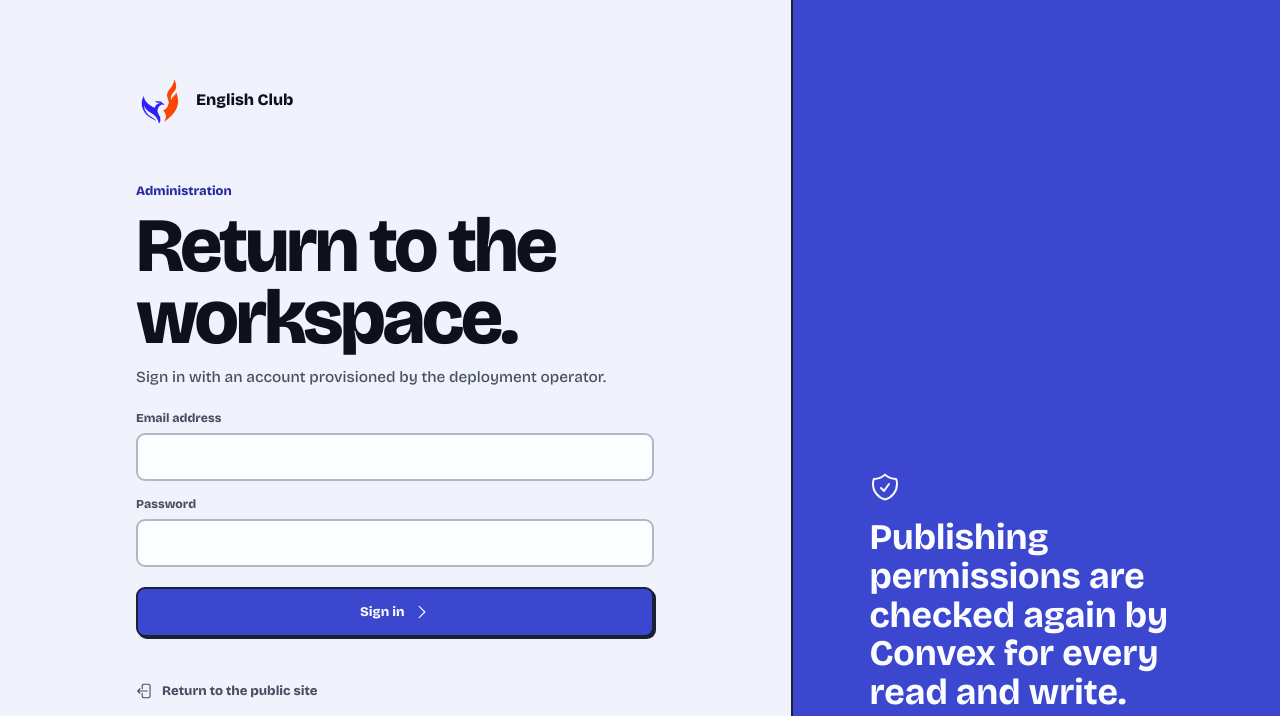
Test: AdminSignIn › turns a missing password account into a non-enumerating sign-in error
Type "owner@example.com" into the field labelled "Email address" at coordinates (395, 457), box [136,433,654,481]
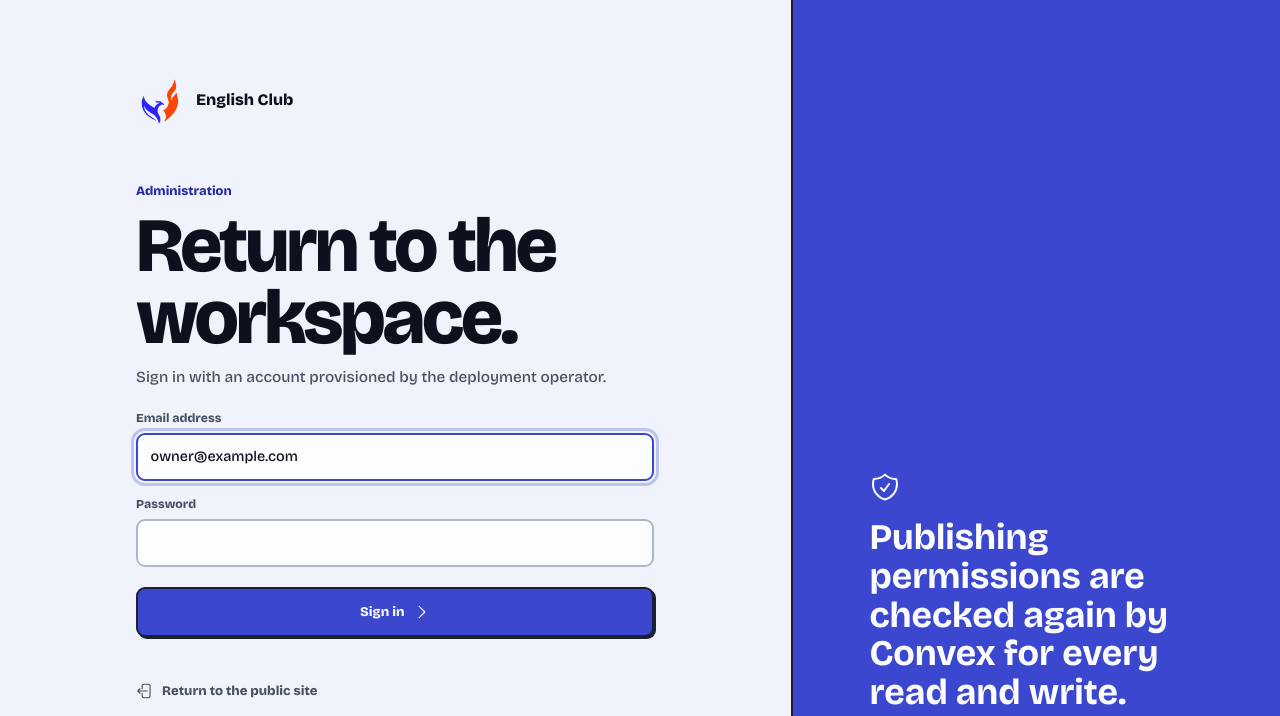
Type "StrongPassword12" into the password field labelled "Password" at coordinates (395, 543), box [136,519,654,567]
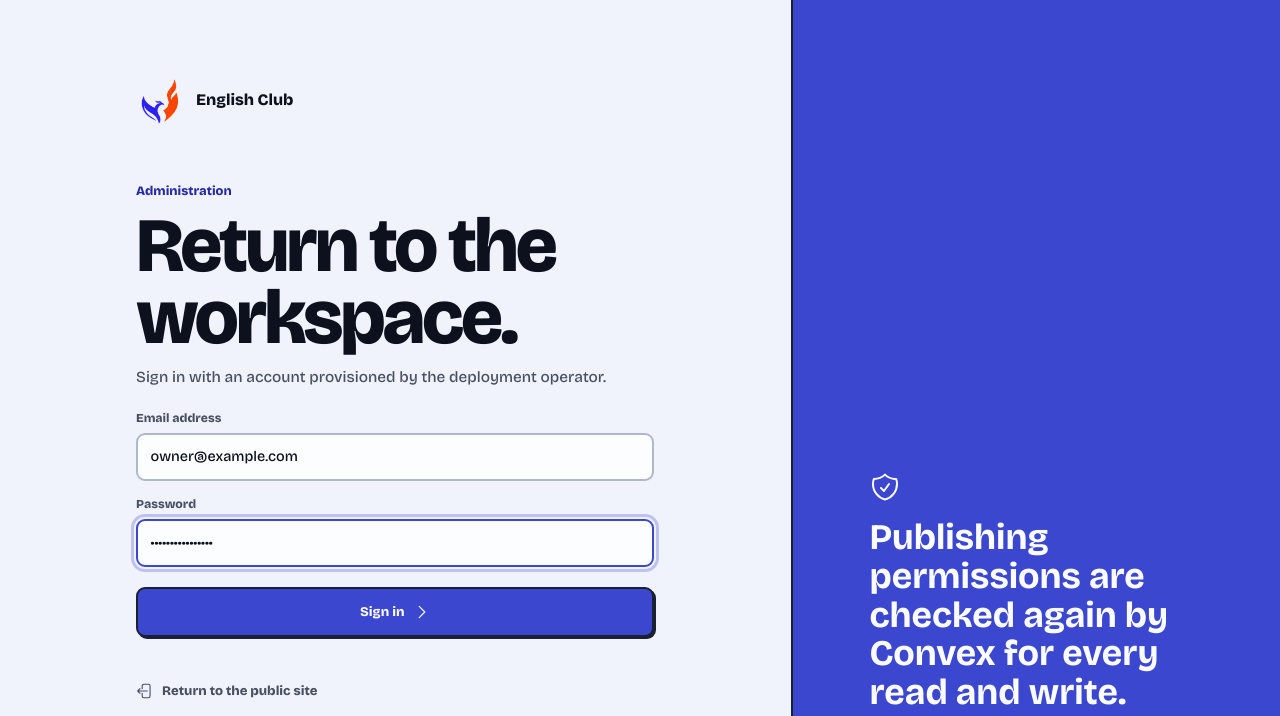
Click the button "Sign in" at coordinates (395, 612), box [136,587,654,637]
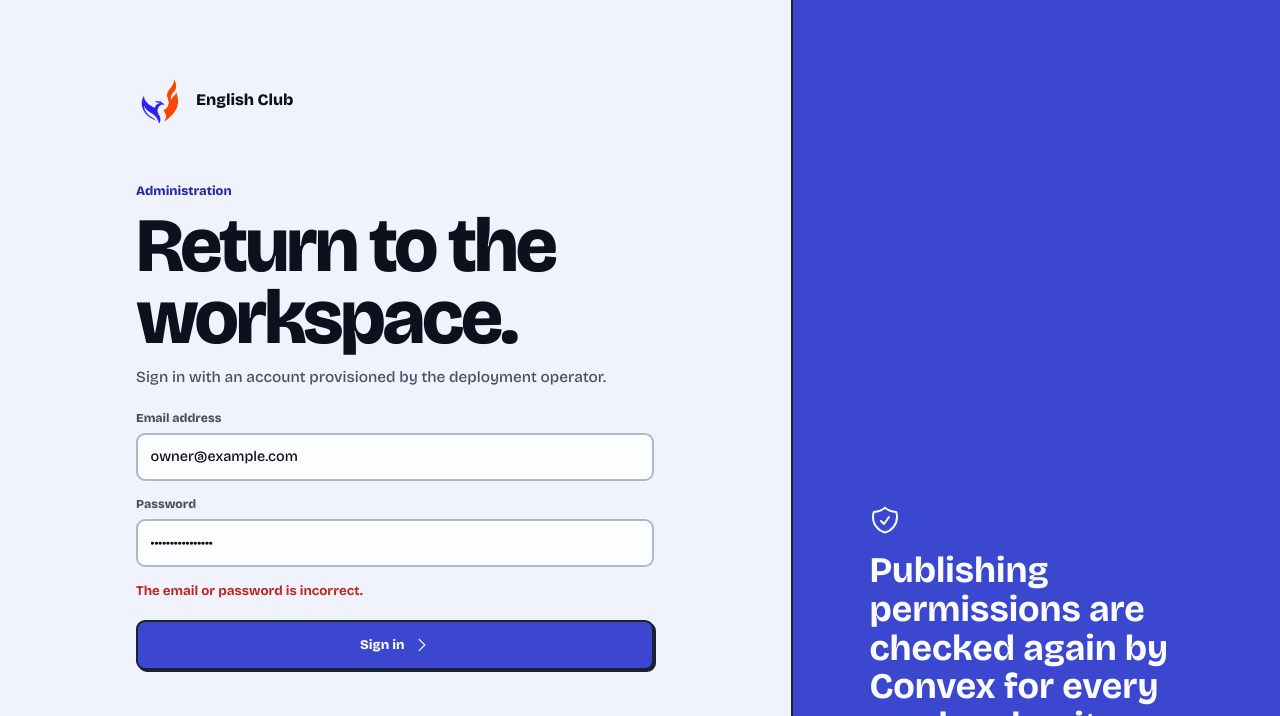
Check: the message does not show "InvalidAccountId", box [136,583,363,599]
Check: the message reads "The email or password is incorrect.", box [136,583,363,599]
